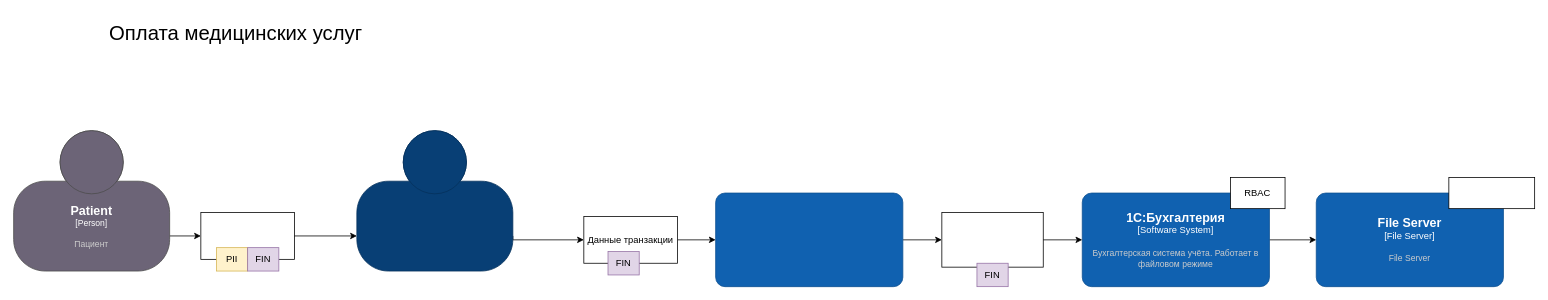
Image size: 1548x300. Some labels were removed from this diagram. The shapes that lost their labels are listed below. From the top down, each one's box as (x1, y1, x2, y2) in pixels, then its label:
(356, 130, 513, 271): Cassier [Person] Кассир
(1448, 177, 1535, 209): шифрование
(200, 212, 294, 259): Платёжные данные пациента
(715, 192, 903, 287): ККМ [Software System] Контрольно-кассовая машина
(941, 212, 1043, 267): Информация о принятии денежных средств
